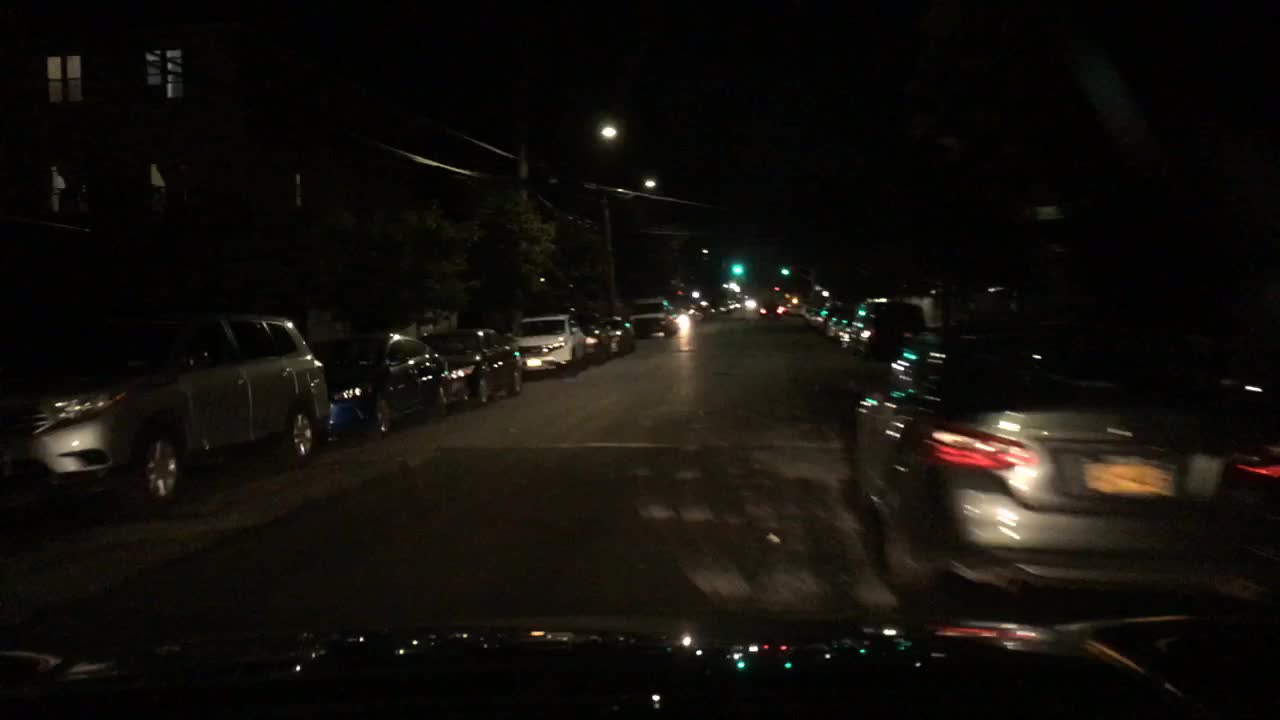car: (850, 301, 1279, 610), (1, 306, 330, 511), (315, 328, 449, 440), (884, 320, 1002, 389), (425, 324, 523, 404), (836, 296, 922, 353), (512, 311, 586, 372), (628, 297, 674, 333), (815, 297, 849, 332), (577, 316, 604, 359), (602, 313, 633, 349), (758, 296, 785, 315), (675, 298, 693, 320), (803, 302, 822, 318), (697, 297, 711, 316), (727, 295, 742, 306), (716, 298, 727, 311)
traffic light: (733, 260, 742, 274), (778, 264, 788, 275)
